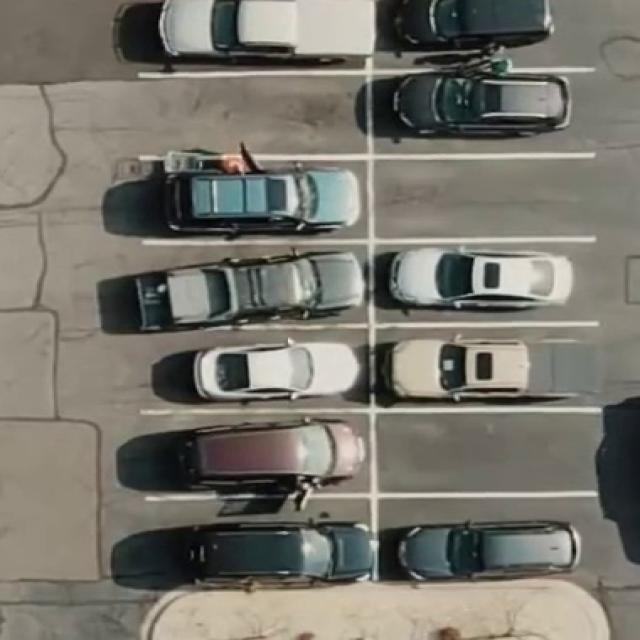empty: (133, 77, 369, 152), (380, 413, 603, 489), (375, 157, 596, 233)
notEmpty: (142, 328, 370, 407), (142, 414, 370, 492), (150, 501, 375, 579), (142, 246, 366, 324), (379, 328, 602, 406), (142, 162, 368, 238), (380, 500, 603, 576), (377, 73, 591, 152), (128, 1, 368, 70), (375, 245, 596, 319), (375, 4, 597, 67)
